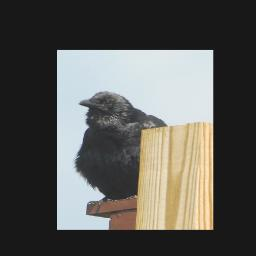Crow: (72, 91, 166, 205)
